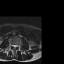CCS_normal: (13, 43, 15, 51)
LFS_normal: (17, 43, 18, 48)
LLS_normal: (15, 43, 17, 49)
RFS_normal: (10, 42, 12, 47)
RLS_normal: (12, 42, 13, 49)
